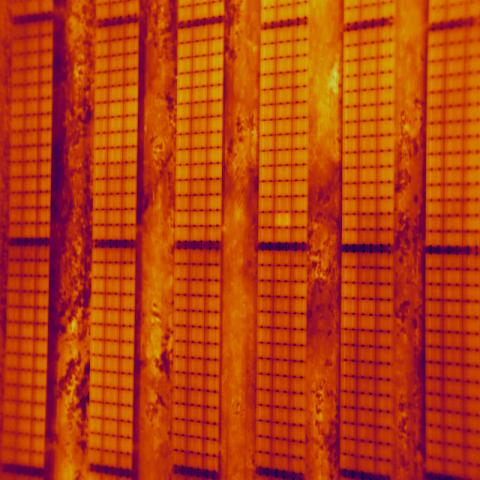fault: (275, 211, 292, 228)
